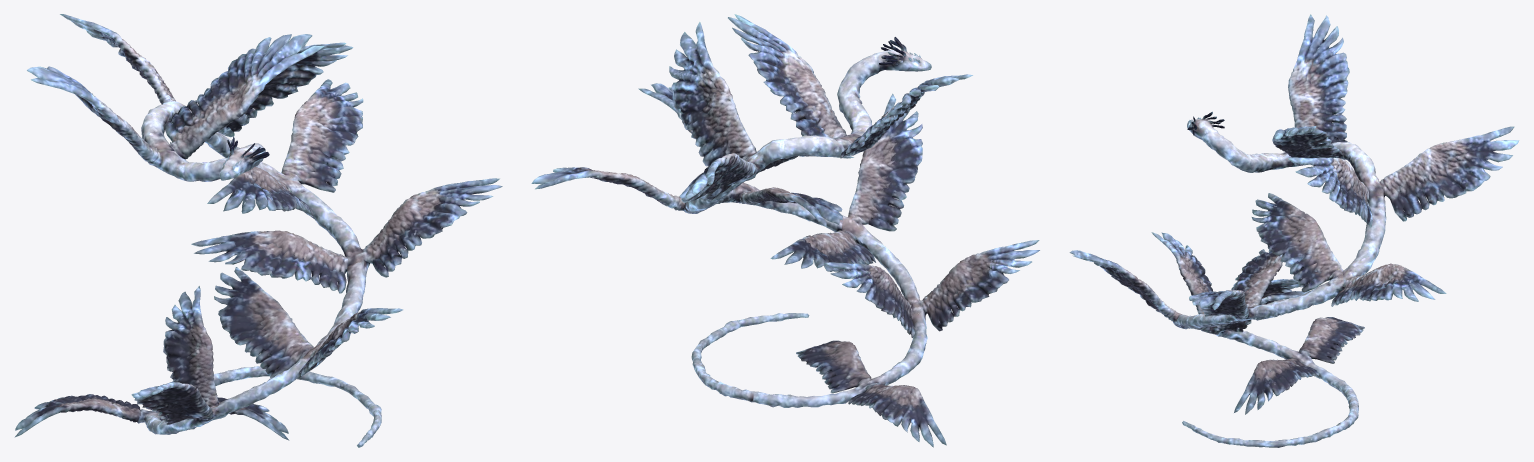
Rendered from MZ4250 - Elder Tempest.glb.
3 renders of one model, left to right at view 1: azimuth 30°, elevation 25°; view 2: azimuth 150°, elevation 25°; view 3: azimuth 270°, elevation 25°, orthographic. The views are drawn at different scales.
Visible parts, largest first — view 1: Elder Tempest.001; view 2: Elder Tempest.001; view 3: Elder Tempest.001.
Part boxes in pixels (x1,y1,x2,y2): Elder Tempest.001: [14, 14, 502, 447]; Elder Tempest.001: [531, 14, 1039, 447]; Elder Tempest.001: [1069, 14, 1519, 447].
Bounding box in the file's own units: 113 × 99.61 × 129.
Materials: 1 (1 with a texture image).
